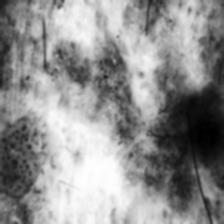Potentially Malignant Skin Tumors: (159, 87, 224, 182), (56, 37, 132, 116), (0, 127, 48, 211)
